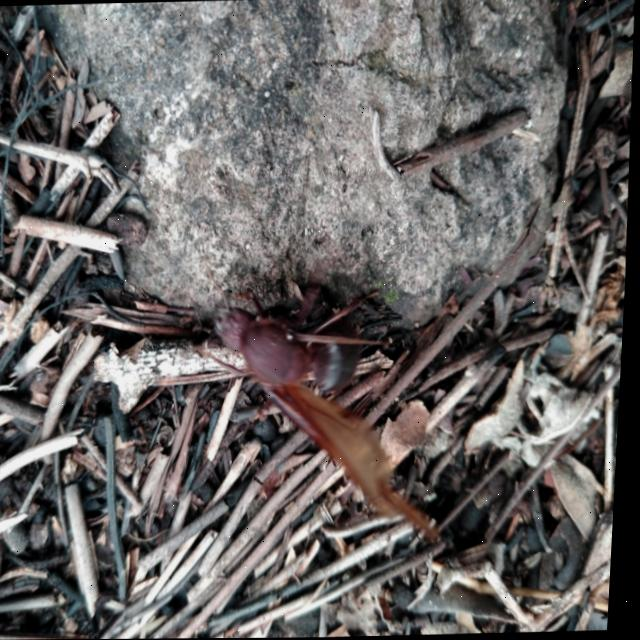Alive-Female-Alate: (190, 256, 455, 545)
